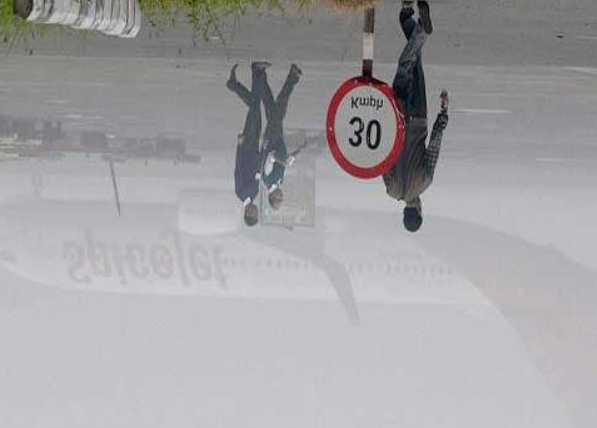Speed limit: (323, 77, 401, 172)
